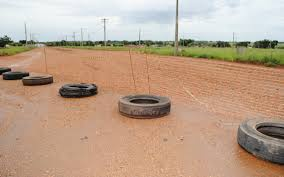tire: (236, 115, 284, 165), (118, 94, 172, 120), (58, 82, 99, 99), (21, 74, 56, 86), (1, 71, 31, 80)
